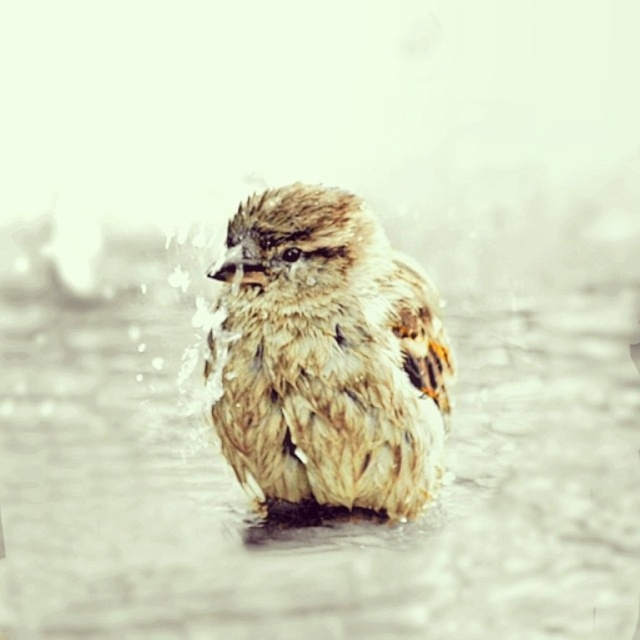Sparrow: (199, 179, 456, 521)
